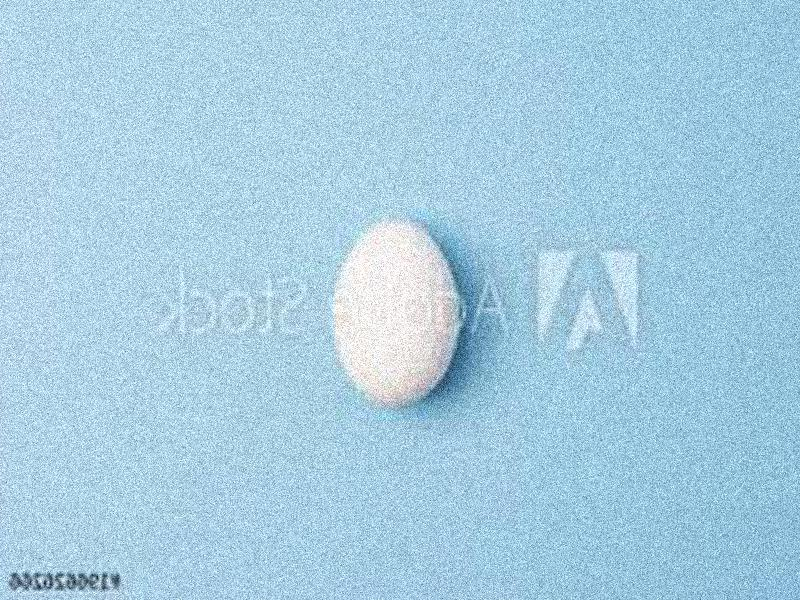Eggs: (334, 223, 459, 403)
